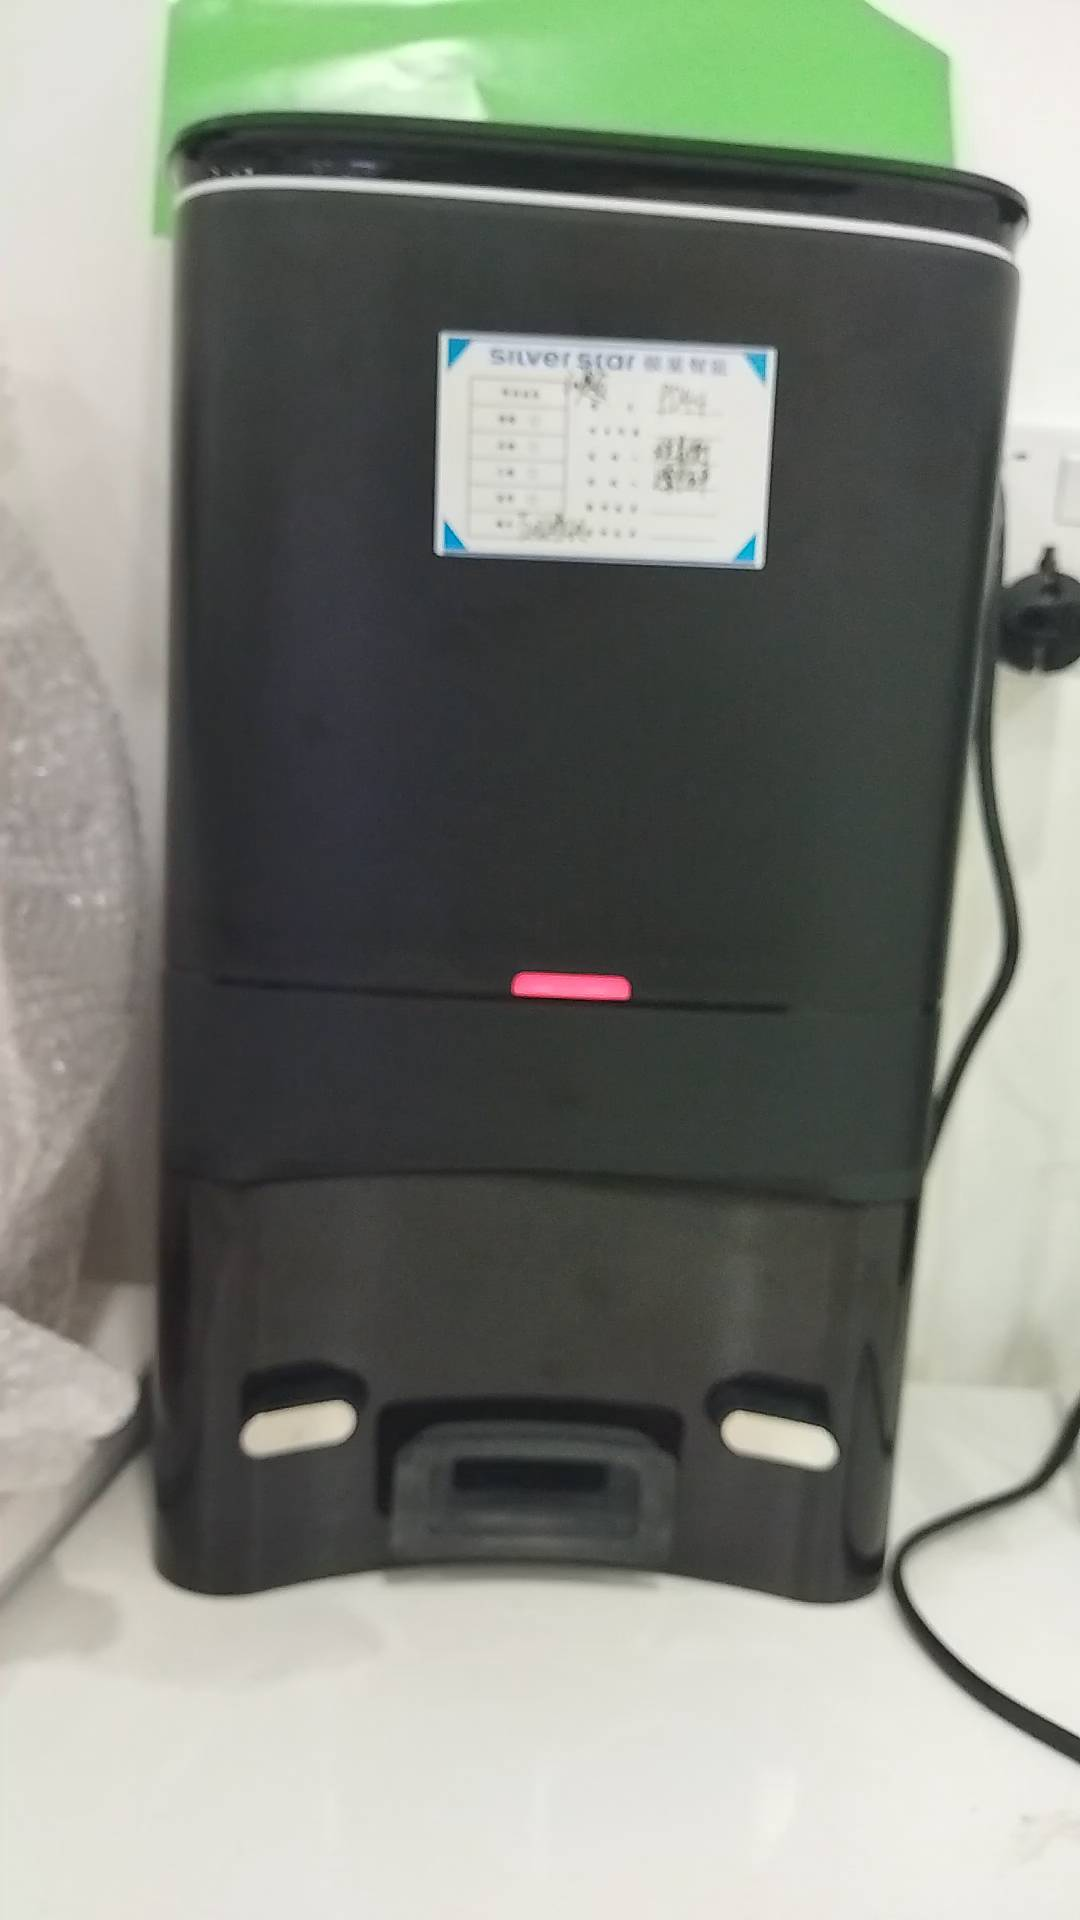dust collecting barrel: (150, 115, 1033, 1607)
